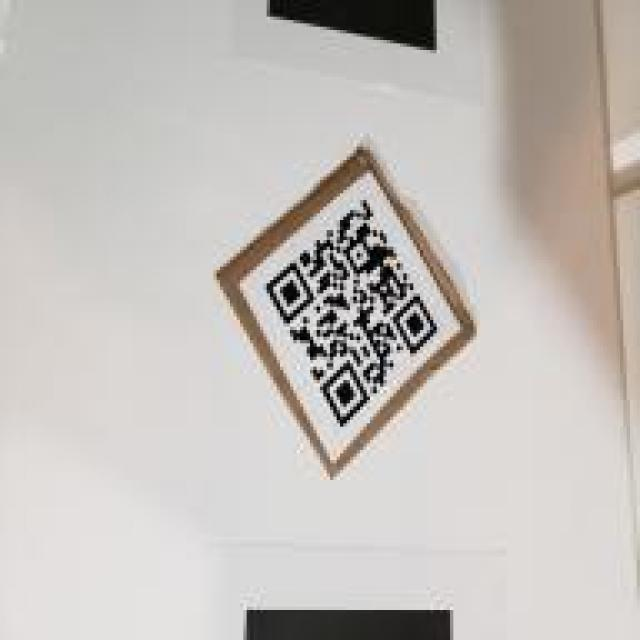QR_CODE: (255, 190, 450, 437)
